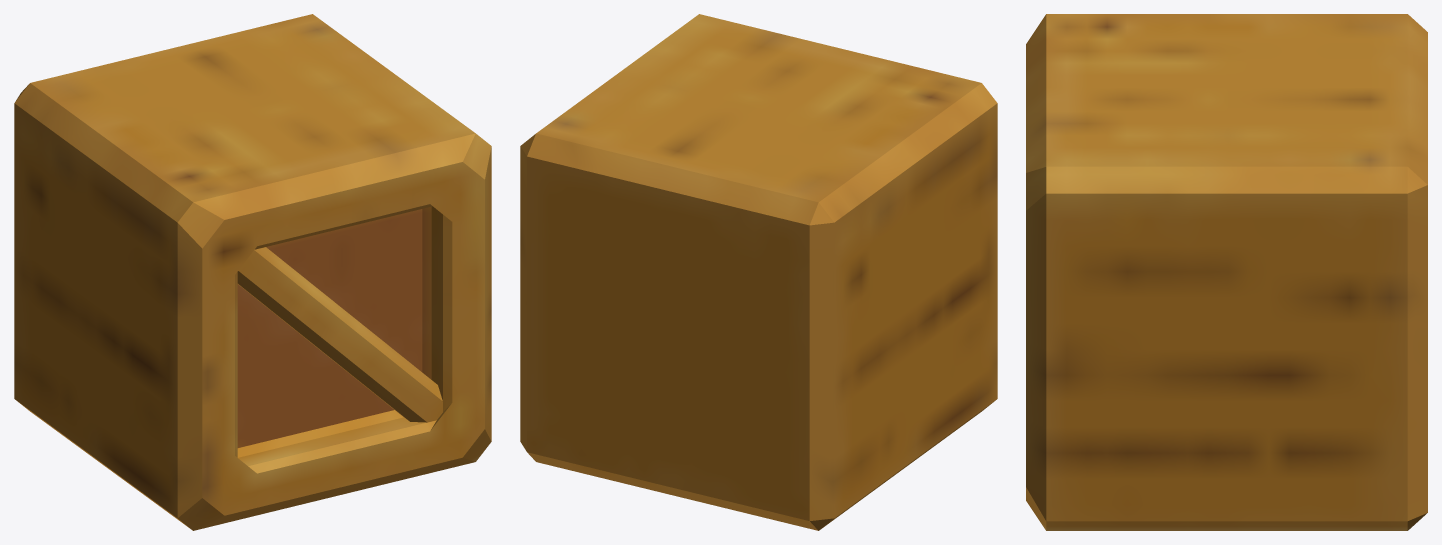
Rendered from obs-crate.fbx.
3 views of the same model, side by side, from view 1: azimuth 30°, elevation 25°; view 2: azimuth 150°, elevation 25°; view 3: azimuth 270°, elevation 25° (orthographic). The views are drawn at different scales.
Parts seen in each view (by area): view 1: obs-crate; view 2: obs-crate; view 3: obs-crate.
Part boxes in pixels (left/top/right/bottom): obs-crate: left=14, top=14, right=491, bottom=530; obs-crate: left=520, top=14, right=997, bottom=530; obs-crate: left=1026, top=14, right=1427, bottom=530.
Bounding box in the file's own units: 0.5 × 0.5 × 0.5.
